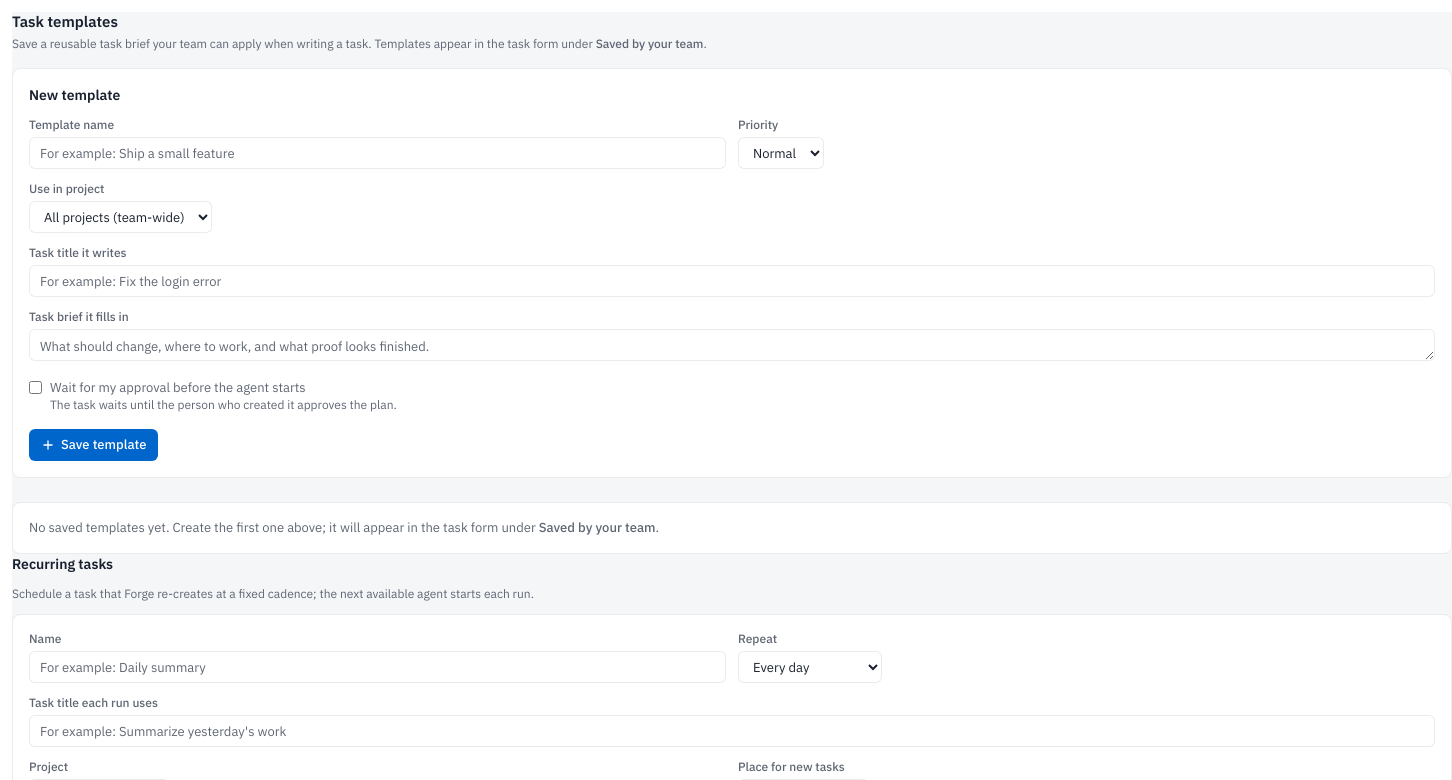
it: TaskTemplatesSection › requires a template name before saving
This screenshot has width=1452, height=780.
Expected: the text "No saved templates yet" is shown, [29, 519, 539, 536]
Click the button with test id "save-task-template": (94, 445) [29, 429, 158, 461]
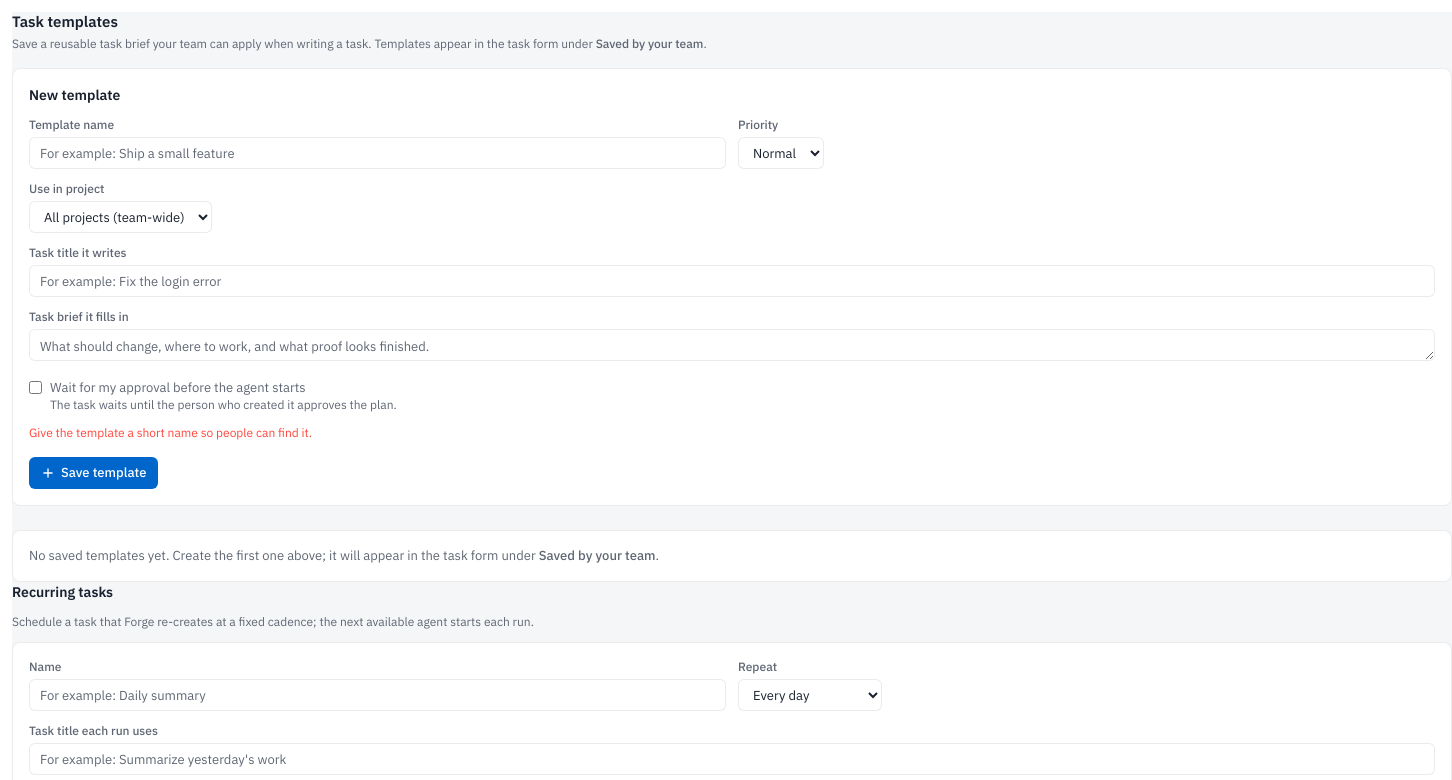
Expected: the message reads "Give the template a short name so people can find it.", [29, 425, 312, 440]
